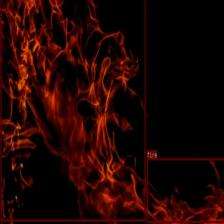fire: (0, 0, 146, 221), (146, 157, 224, 222)
